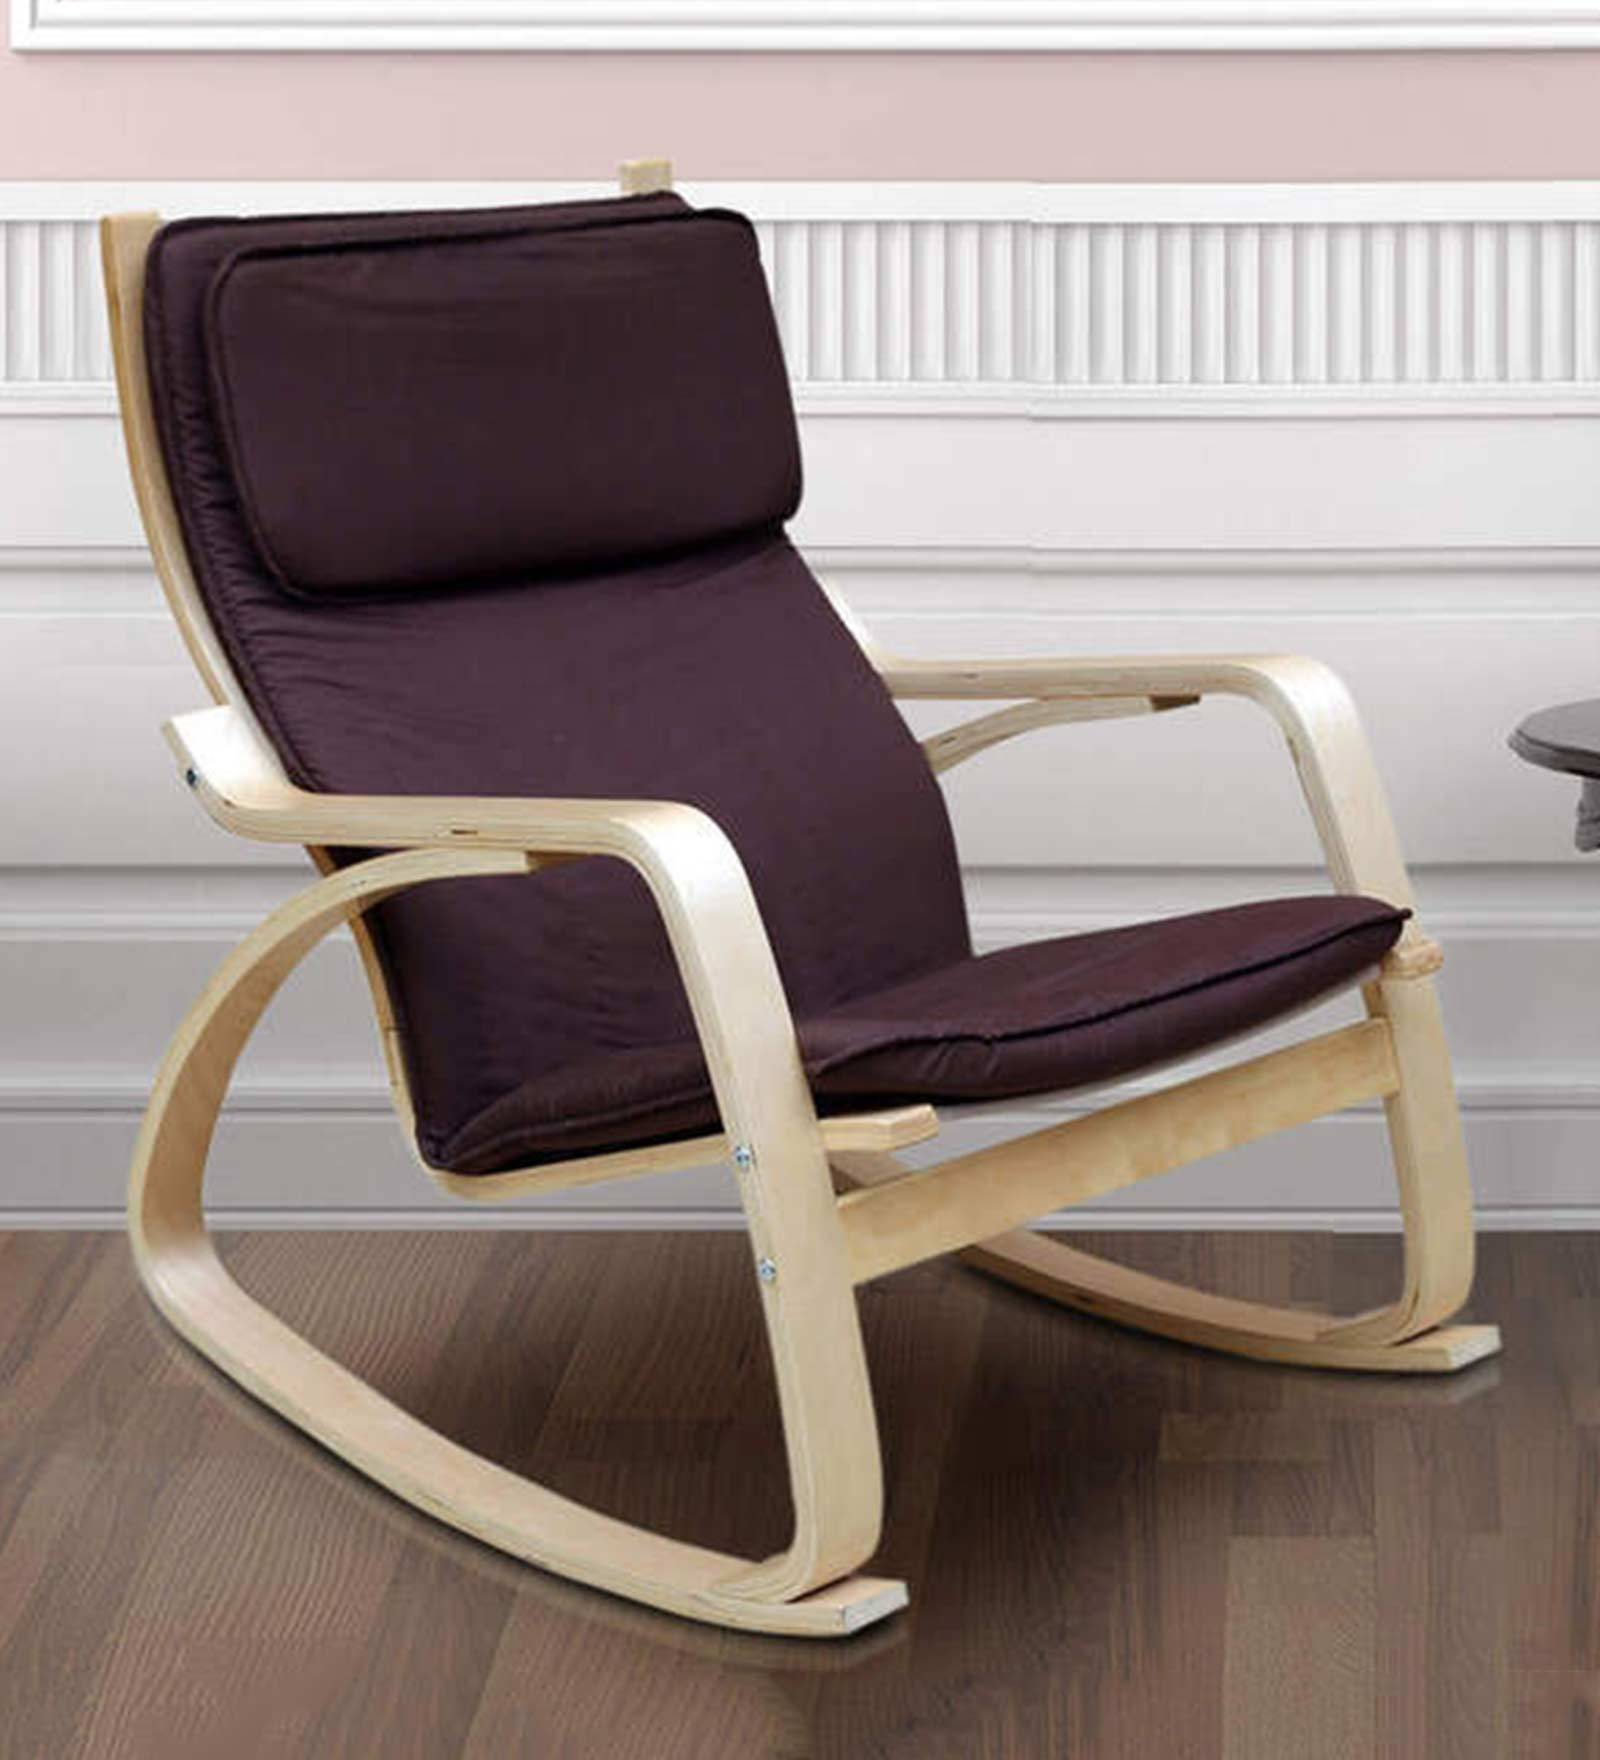Vita Rocking Chair with Brown Cushion by HomeTown: (40, 143, 1566, 1699)
